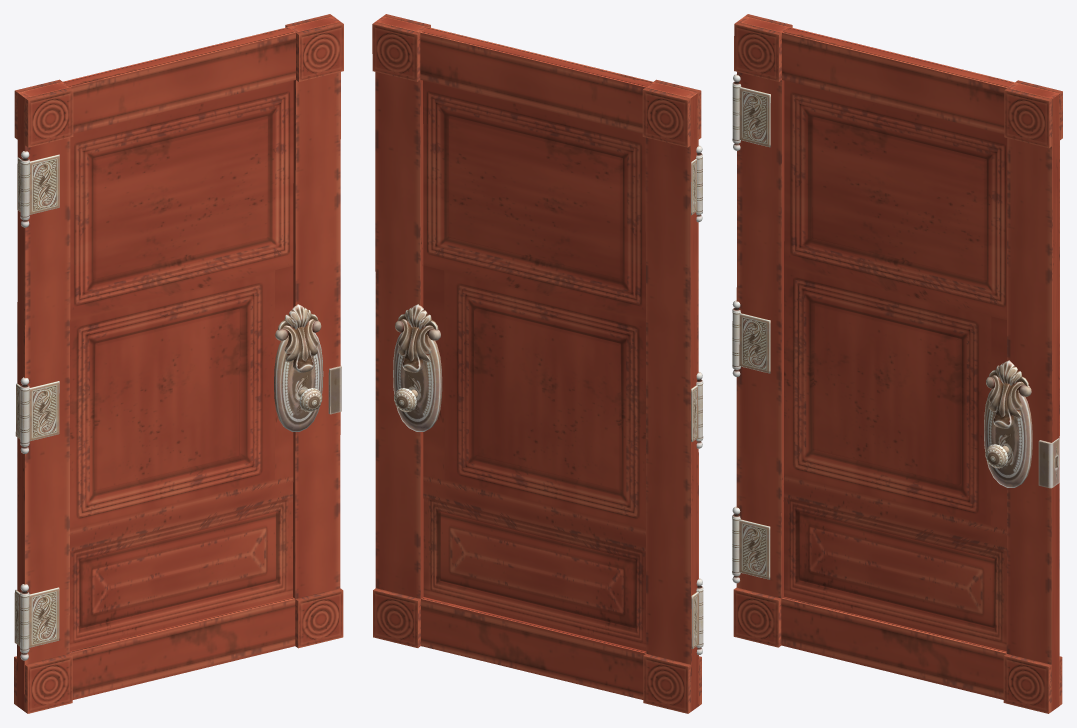
Rendered from MSH_Door_01.FBX.
3 renders of one model, left to right at view 1: azimuth 30°, elevation 25°; view 2: azimuth 150°, elevation 25°; view 3: azimuth 330°, elevation 25°, orthographic.
Visible parts, largest first — view 1: MSH_Door_01; view 2: MSH_Door_01; view 3: MSH_Door_01.
Part boxes in pixels (x1,y1,x2,y2): MSH_Door_01: (14, 14, 343, 713); MSH_Door_01: (372, 14, 703, 713); MSH_Door_01: (732, 14, 1062, 713).
Size of what is drawn, in the model's own units: 142 by 31.36 by 260.
